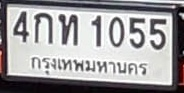num4: (11, 10, 30, 44)
txt01: (32, 12, 54, 45)
txt18: (57, 13, 79, 47)
